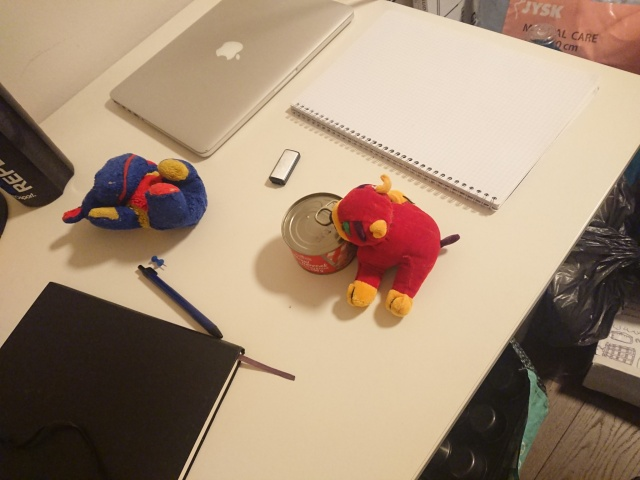Podravka Luncheon Meat 150g: (278, 189, 366, 277)
